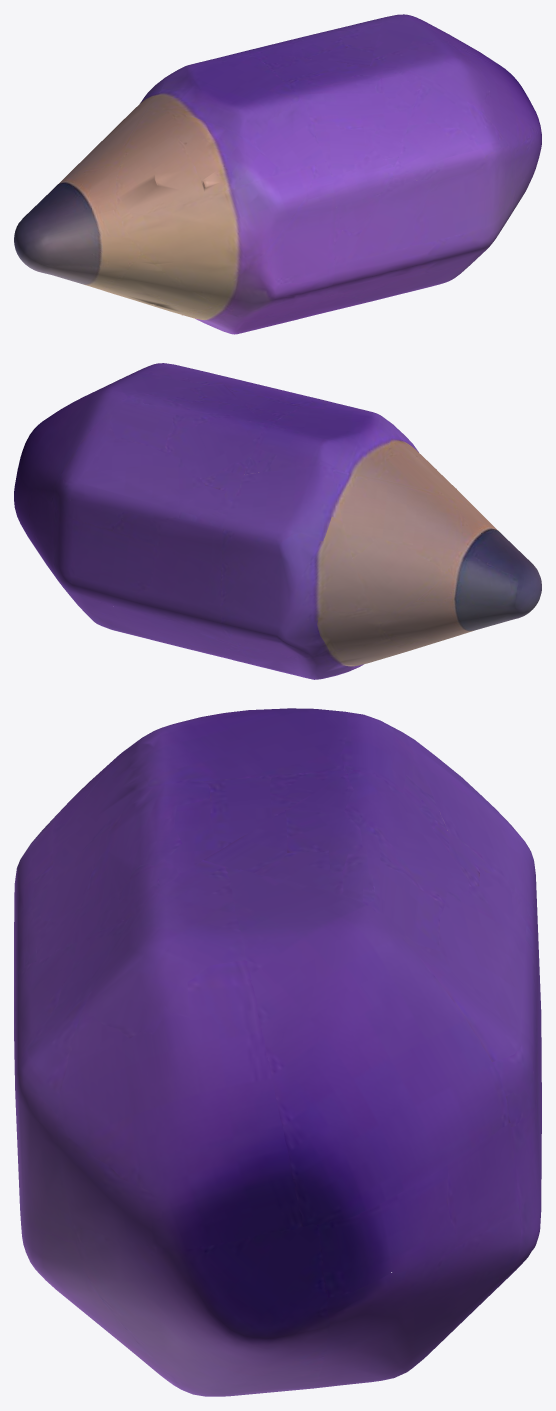
Rendered from pencil.glb.
The picture shows the model from 3 angles, top to bottom: view 1: azimuth 30°, elevation 25°; view 2: azimuth 150°, elevation 25°; view 3: azimuth 270°, elevation 25°; orthographic projection. The views are drawn at different scales.
Parts seen in each view (by area): view 1: prop; view 2: prop; view 3: prop.
Part boxes in pixels (x1,y1,x2,y2): prop: [14, 14, 541, 334]; prop: [14, 363, 541, 679]; prop: [14, 708, 541, 1396].
Size of the model in its own units: 2.2 by 1 by 1.01.
Materials: 1 (1 with a texture image).
